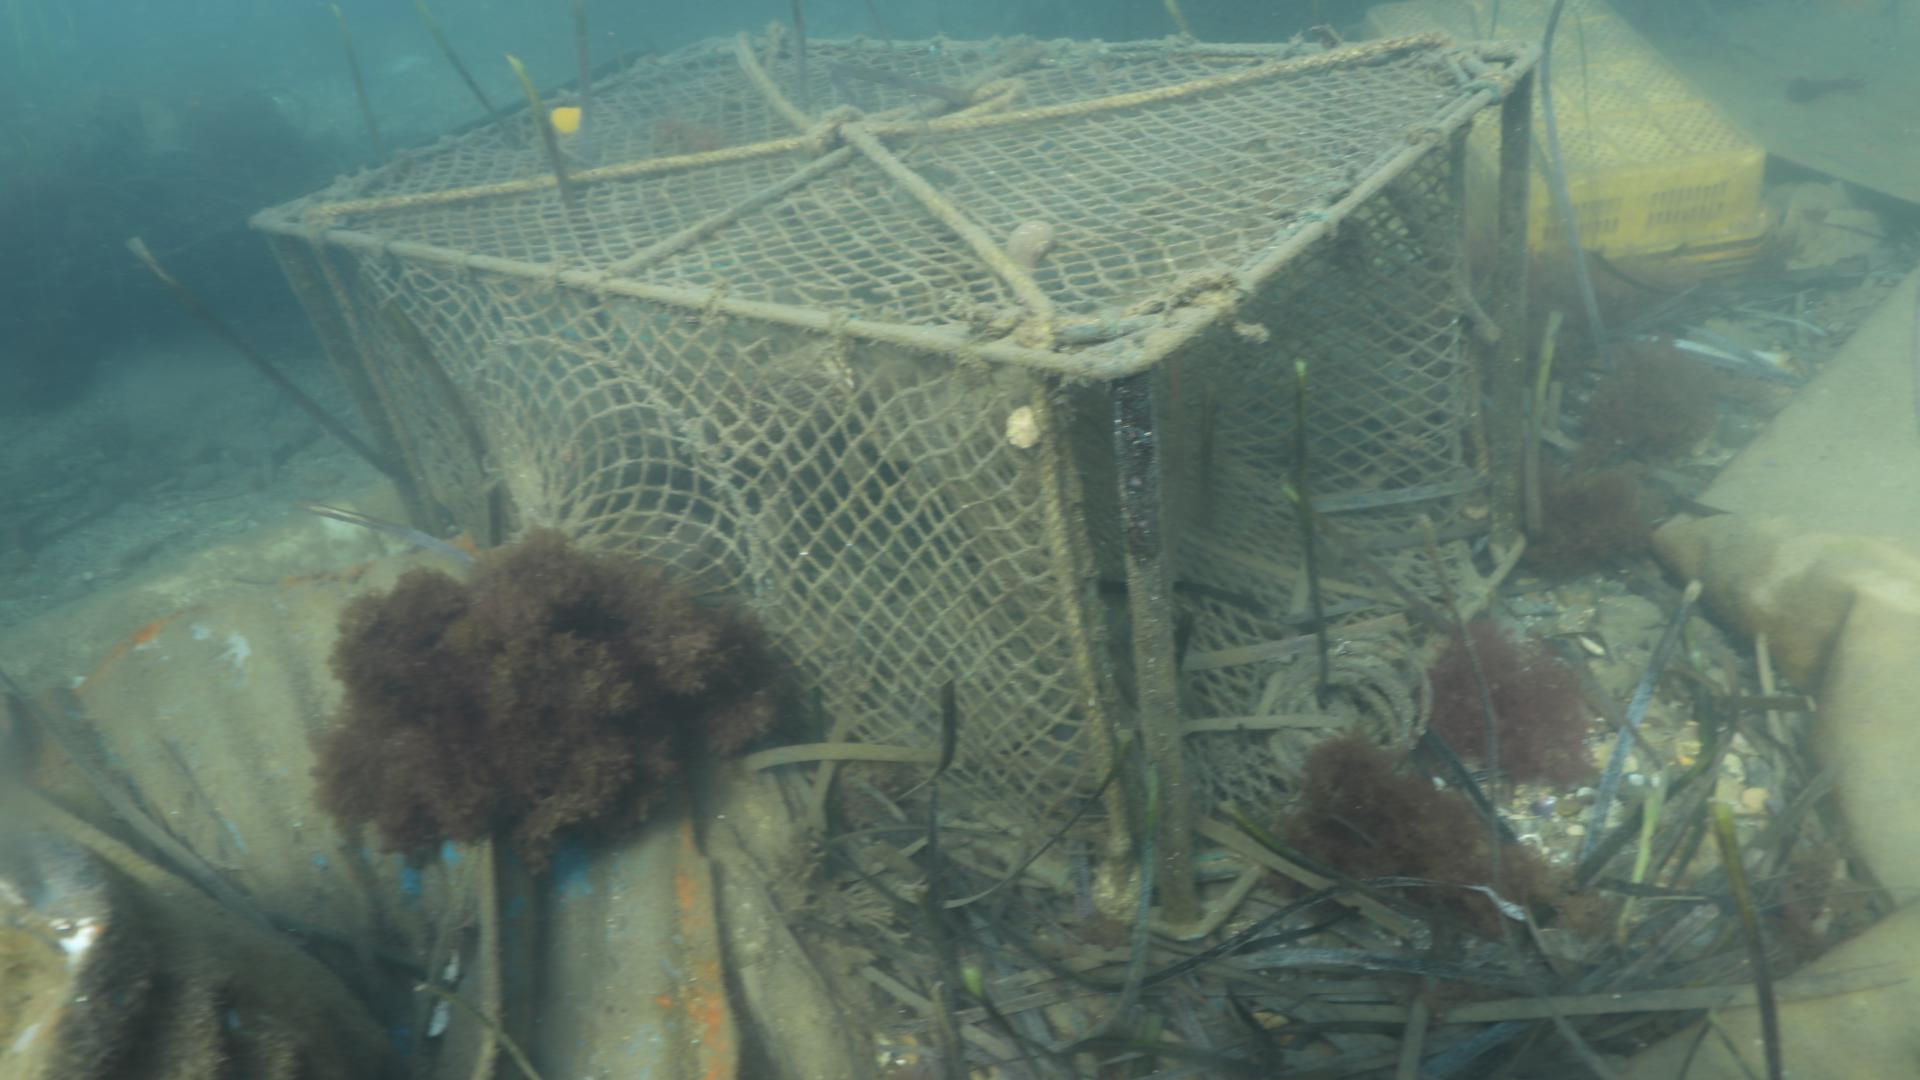rectangular fish trap: (251, 26, 1548, 942)
